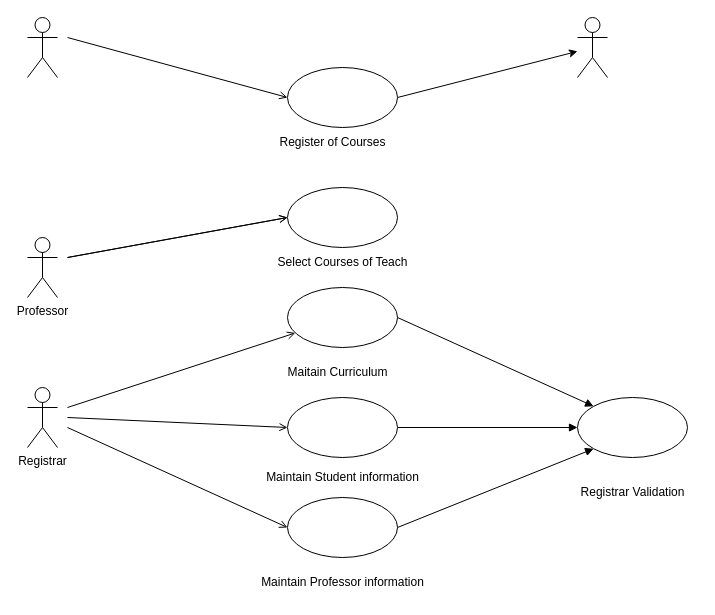
Image size: 715x615. Some labels were removed from this diagram. Here are the shapes that lost their labels. From the top down, the centre of each, then its label:
the point at 42,47: Student
the point at 592,47: Billing System
